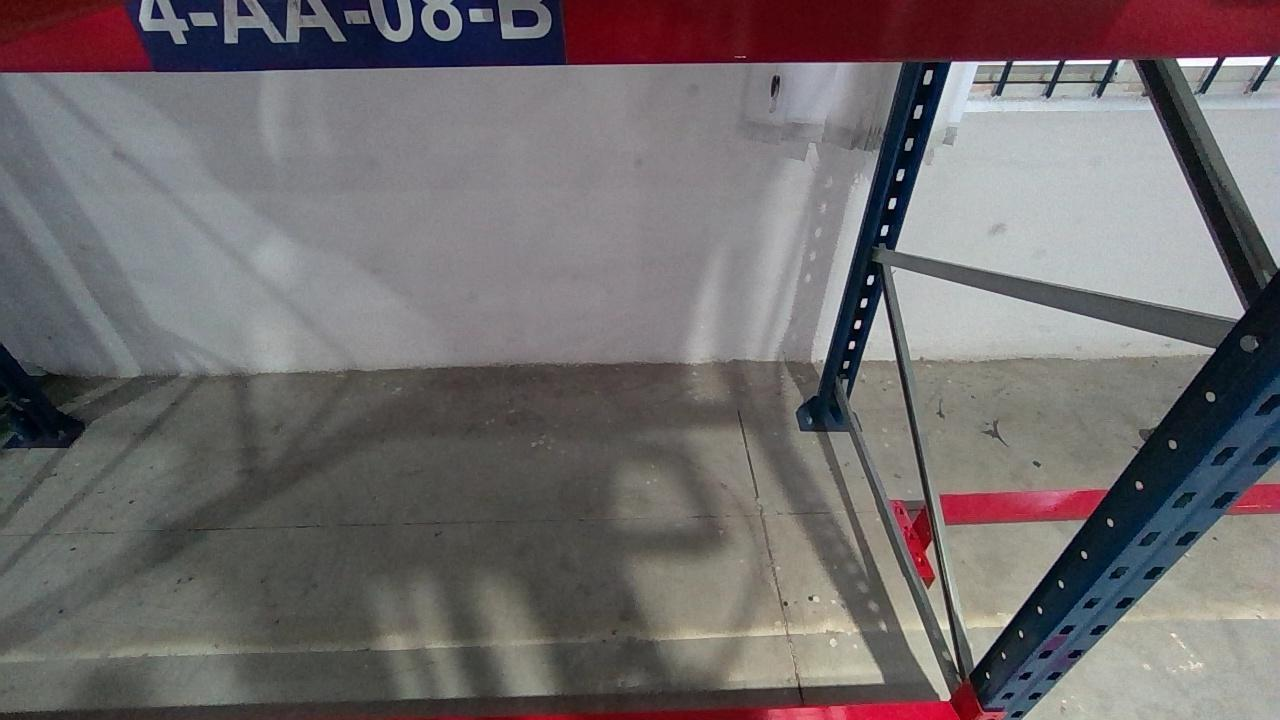h_rack: (0, 2, 1278, 72)
